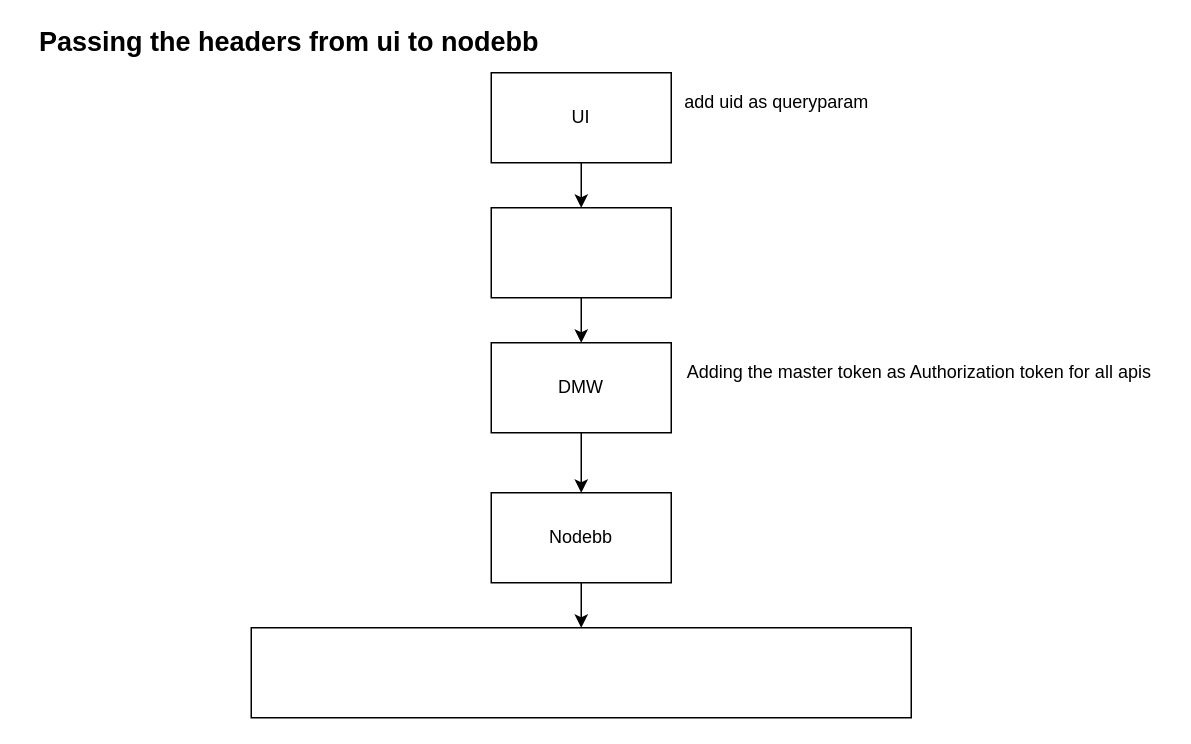
Some shapes in this 1191 by 744 pixel diagram are drawn without their labels. Here are the shapes that lost their labels. From the top down, the centre of each, then its label:
At point 580,252: "Backend".
At point 580,672: "All operations are performed based on master token and uid".
